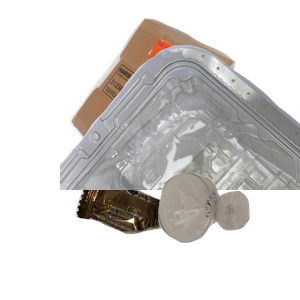cardboard: (67, 16, 295, 196)
glass: (156, 170, 300, 300)
plastic: (60, 43, 300, 223)
trash: (73, 171, 242, 300)
